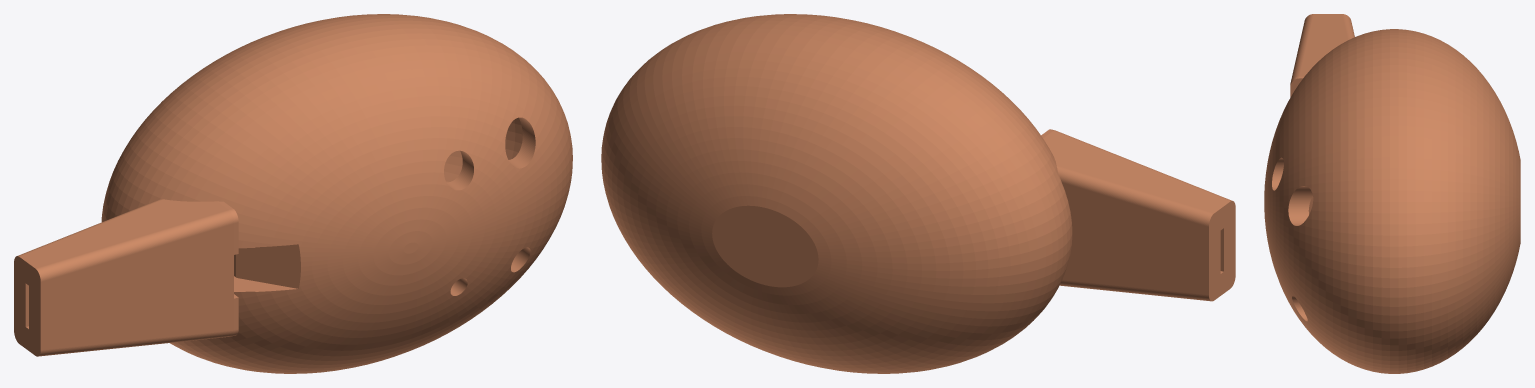
Rendered from ocarina-arena-winner.glb.
3 renders of one model, left to right at view 1: azimuth 30°, elevation 25°; view 2: azimuth 150°, elevation 25°; view 3: azimuth 270°, elevation 25°, orthographic. The views are drawn at different scales.
Visible parts, largest first — view 1: body_0; view 2: body_0; view 3: body_0.
Boxes of the visible parts, bbox=[...] form: body_0: bbox=[14, 14, 572, 373]; body_0: bbox=[601, 14, 1235, 373]; body_0: bbox=[1264, 14, 1520, 373].
Bounding box in the file's own units: 123 × 67.11 × 54.5.
